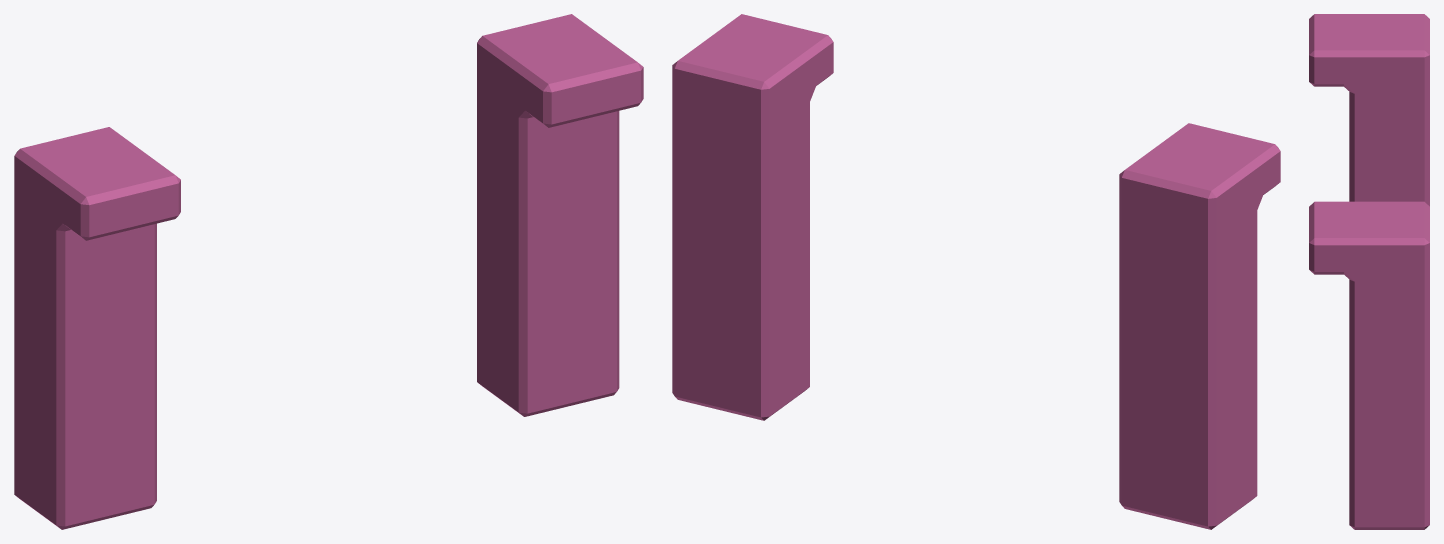
Rendered from Side_Decor_4.fbx.
3 renders of one model, left to right at view 1: azimuth 30°, elevation 25°; view 2: azimuth 150°, elevation 25°; view 3: azimuth 270°, elevation 25°, orthographic. The views are drawn at different scales.
Parts seen in each view (by area): view 1: Side_Decor_4; view 2: Side_Decor_4; view 3: Side_Decor_4.
Part boxes in pixels (x1,y1,x2,y2): Side_Decor_4: [14, 14, 643, 529]; Side_Decor_4: [672, 14, 1280, 529]; Side_Decor_4: [1309, 14, 1429, 529].
Size of the model in its own units: 25.2 by 15 by 5.63.
